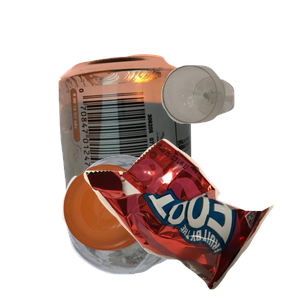glass: (159, 63, 300, 179)
metal: (56, 52, 242, 232)
plastic: (60, 152, 237, 300)
trash: (81, 136, 300, 300)
